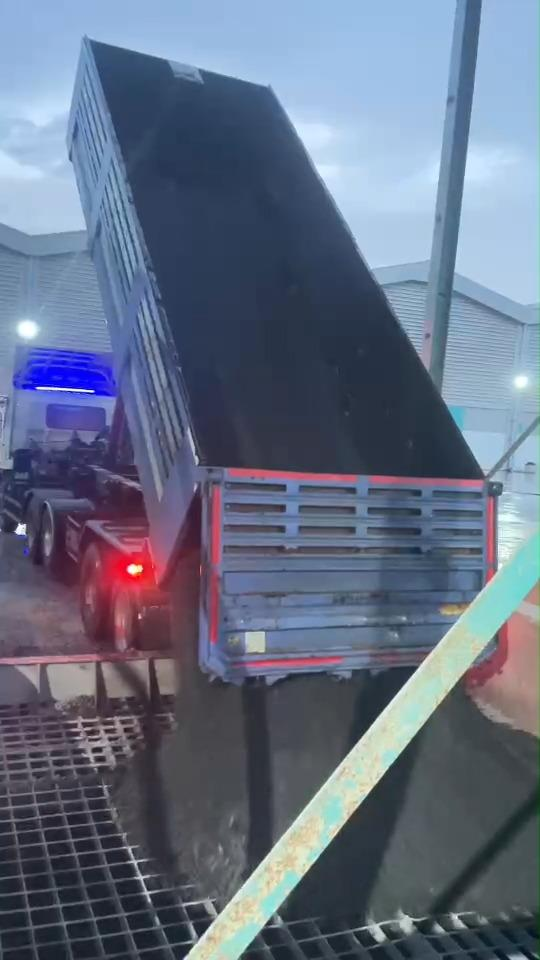gravel: (127, 549, 412, 902), (282, 687, 537, 922)
